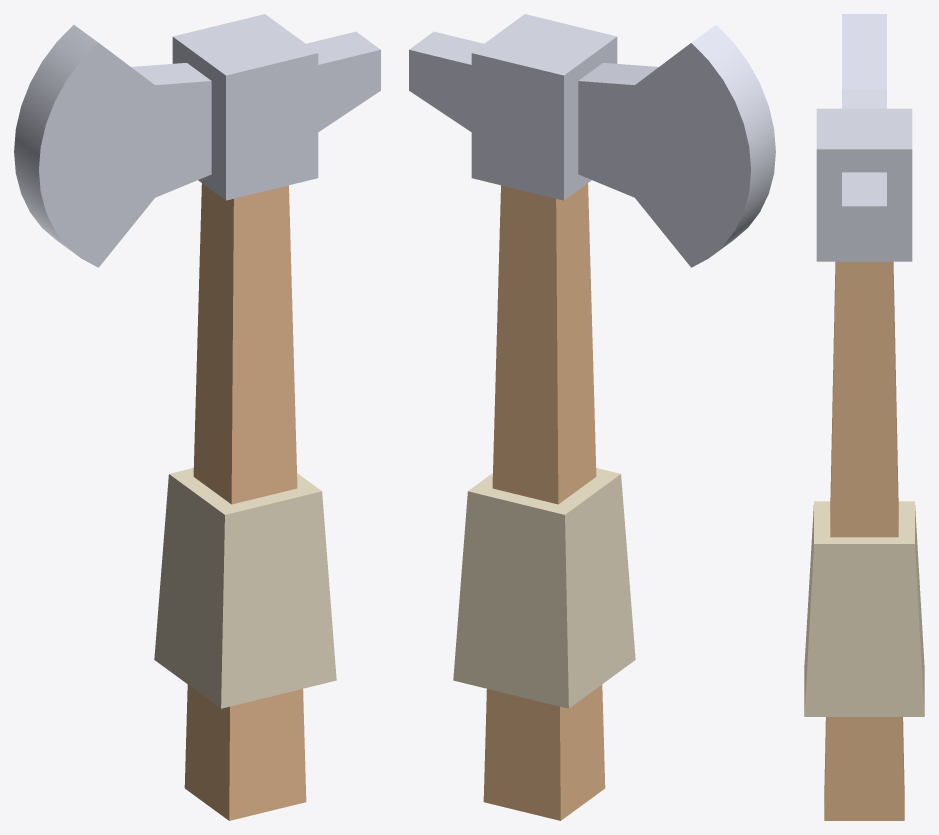
3 renders of one model, left to right at view 1: azimuth 30°, elevation 25°; view 2: azimuth 150°, elevation 25°; view 3: azimuth 270°, elevation 25°, orthographic. The views are drawn at different scales.
Parts seen in each view (by area): view 1: toolAxe; view 2: toolAxe; view 3: toolAxe.
Part boxes in pixels (<box>): toolAxe: <box>14,14,380,820</box>; toolAxe: <box>409,14,775,820</box>; toolAxe: <box>804,14,924,820</box>.
Size of the model in its own units: 0.1145 by 0.256 by 0.0387.
